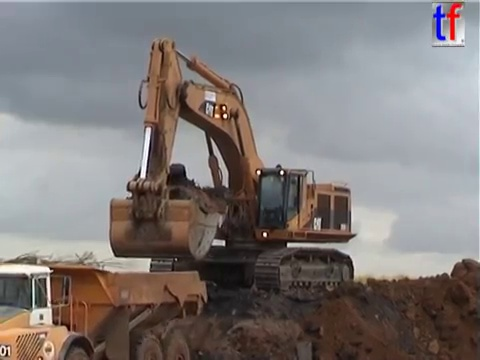excavator: (105, 34, 361, 303)
truck: (1, 257, 210, 360)
